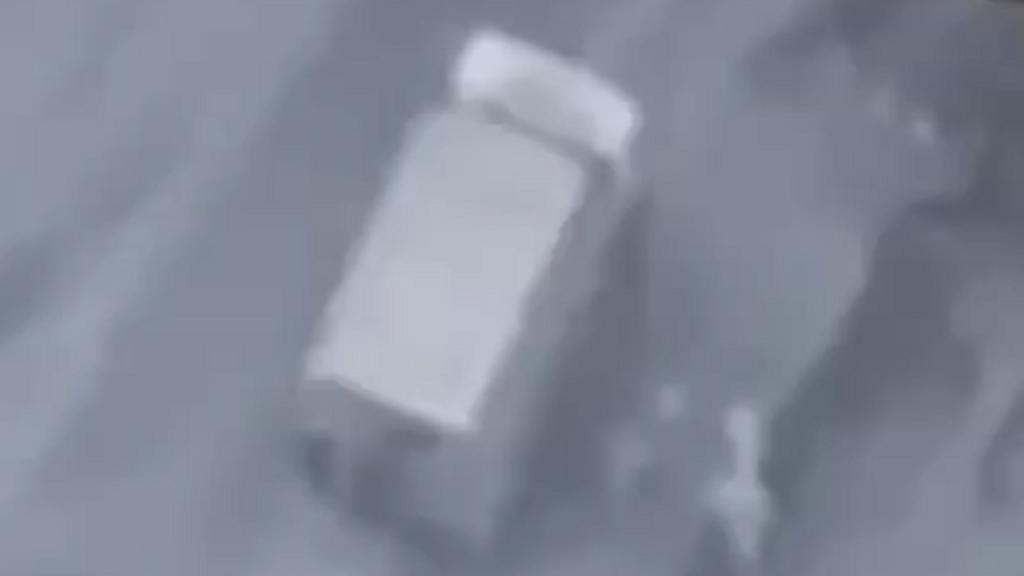TRUCK: (284, 18, 650, 566)
